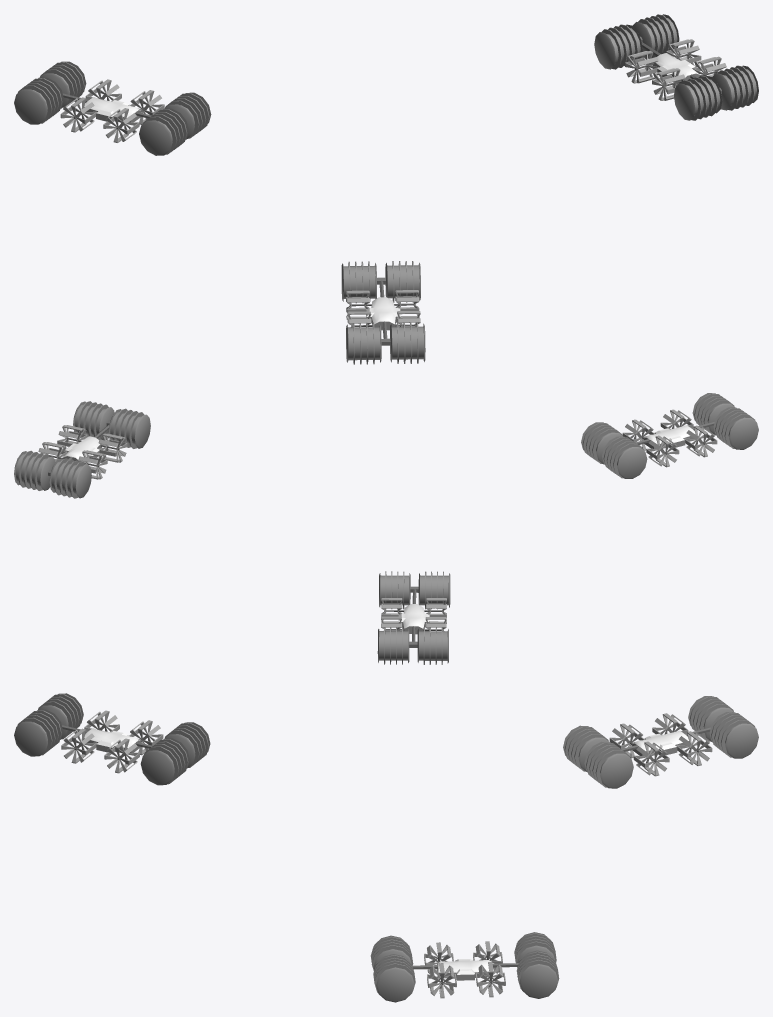
File: Mine.glb
The picture shows the model from 3 angles, top to bottom: view 1: azimuth 30°, elevation 25°; view 2: azimuth 150°, elevation 25°; view 3: azimuth 270°, elevation 25°; orthographic projection. The views are drawn at different scales.
Parts seen in each view (by area): view 1: Cube.004, Cube.007, Cube.003; view 2: Cube.003, Cube.004, Cube.007; view 3: Cube.007, Cube.003, Cube.004.
Boxes of the visible parts, <box> form: Cube.004: <box>594,14,758,120</box>; Cube.007: <box>14,61,211,155</box>; Cube.003: <box>341,261,425,364</box>; Cube.003: <box>581,393,758,478</box>; Cube.004: <box>14,401,150,498</box>; Cube.007: <box>377,571,450,664</box>; Cube.007: <box>563,696,758,788</box>; Cube.003: <box>14,693,210,785</box>; Cube.004: <box>370,932,559,1002</box>.
Bounding box in the file's own units: 4.25 × 0.2673 × 4.79.
1 material, 1 textured.
